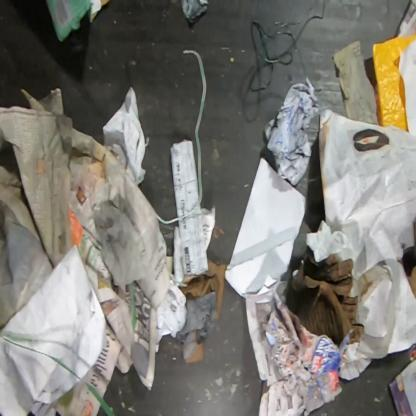cardboard: (286, 247, 364, 349), (47, 0, 110, 44)
